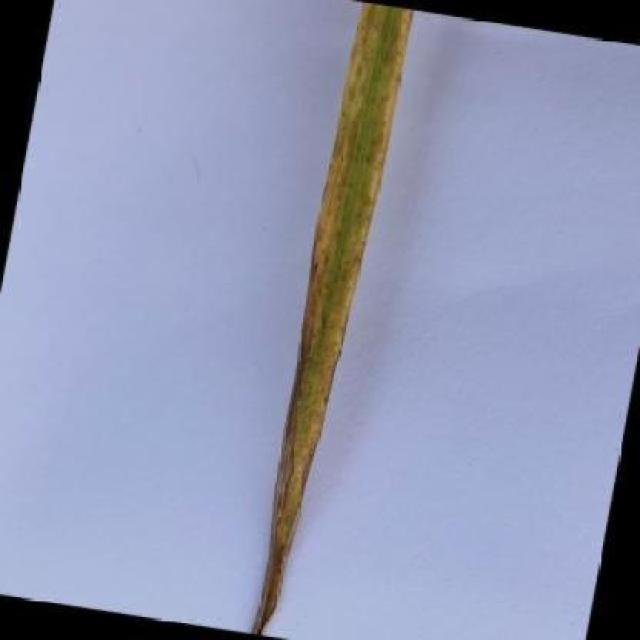Rice False Smut: (252, 4, 412, 634)
